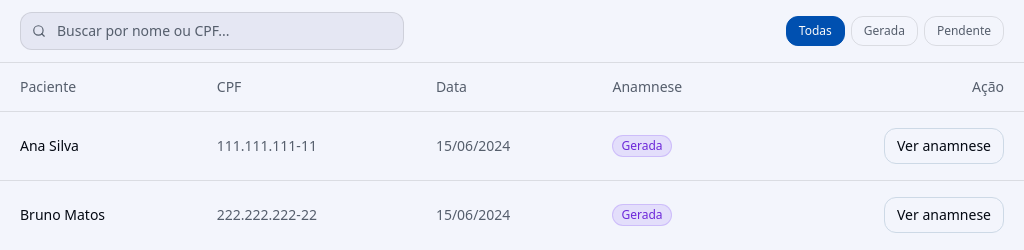
it: HistoryClient — tabela de atendimentos › filtra por nome do paciente (case-insensitive)
In the search field with placeholder "Buscar por nome ou CPF...": (212, 31) [20,12,404,50], type "ana"
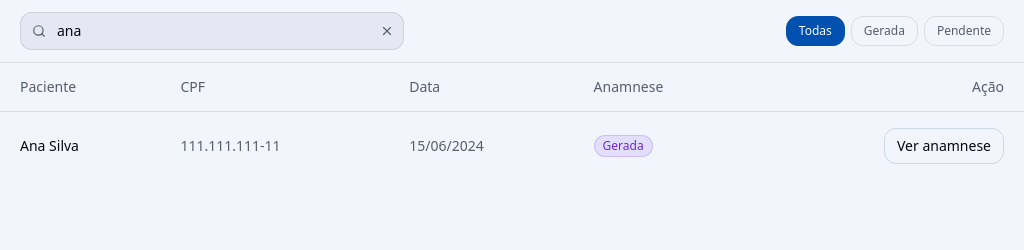
Check: the text "Ana Silva" is shown, box [0,111,164,180]
Check: the text "Bruno Matos" is gone
